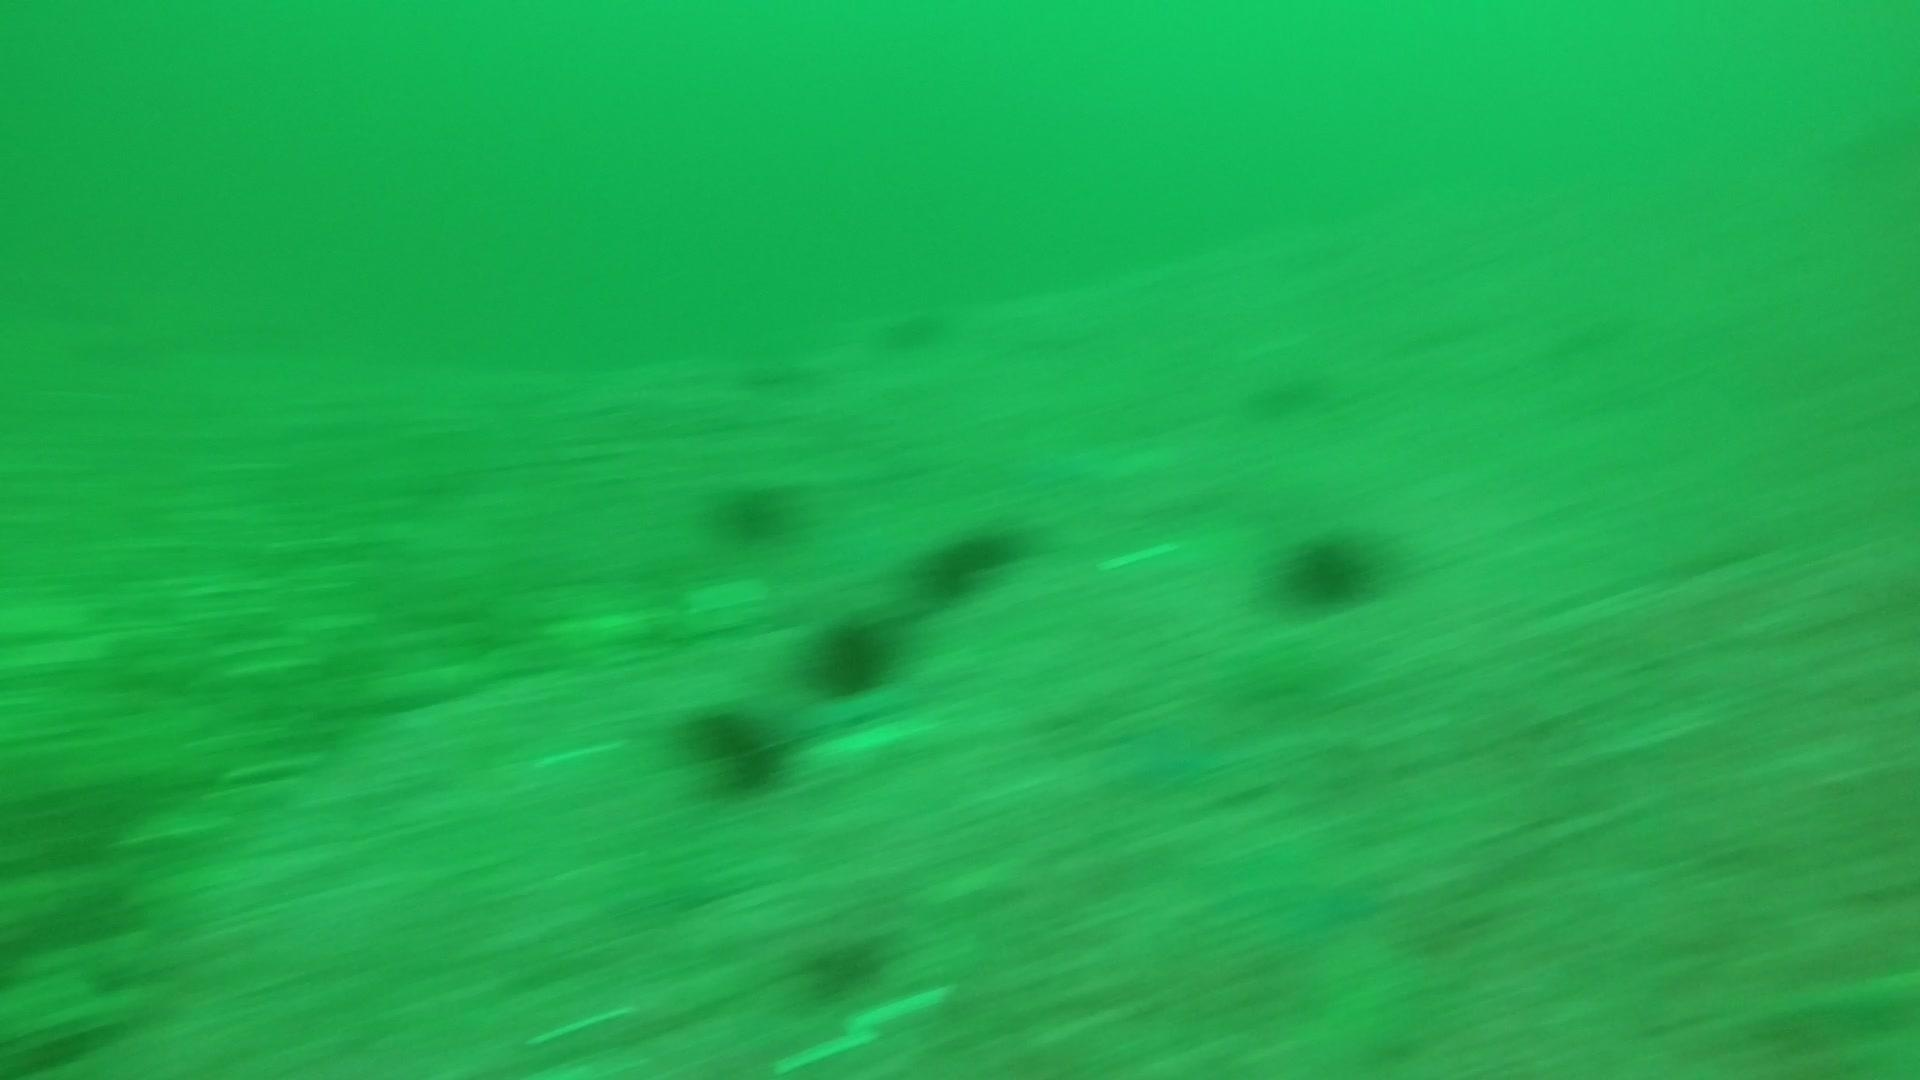echinus: (1269, 520, 1390, 615), (913, 516, 1025, 603), (800, 611, 902, 702), (704, 471, 807, 549), (795, 924, 893, 1006), (679, 696, 758, 765), (716, 732, 795, 800), (876, 298, 949, 357)
